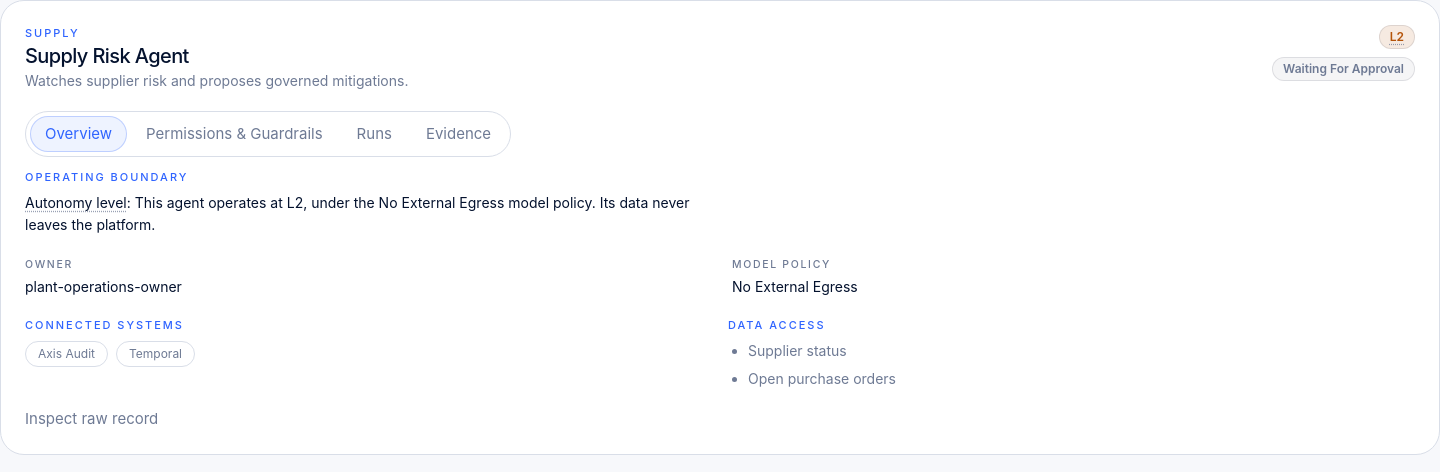
AgentDetail runs tab › renders the EmptyPanel when the API returns zero runs
Click the tab "Runs" at {"x": 374, "y": 134}, box [342, 116, 407, 152]
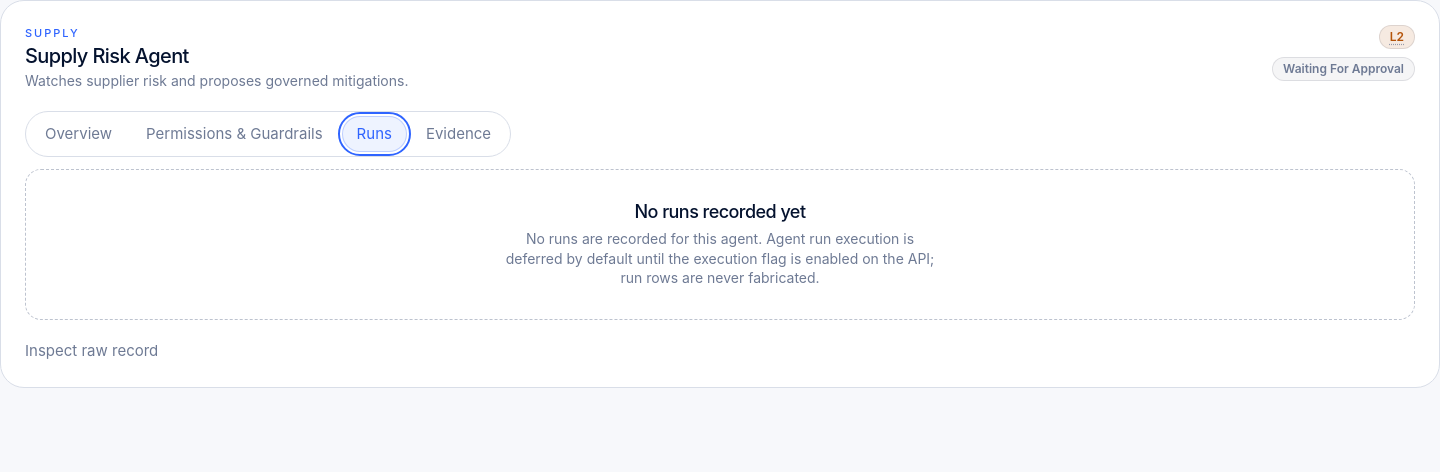
Now the heading "No runs recorded yet" is shown, box [634, 202, 806, 221]
